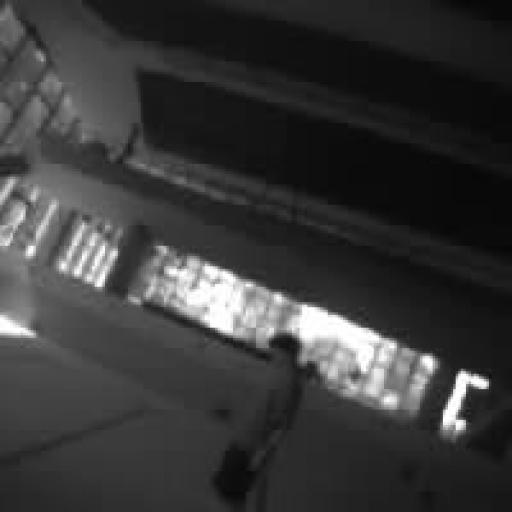human: (213, 333, 304, 511)
